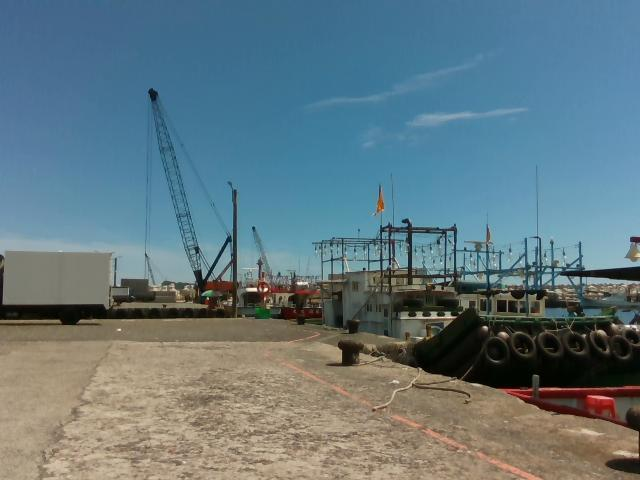pollute: (386, 378, 400, 386), (113, 326, 122, 332)
